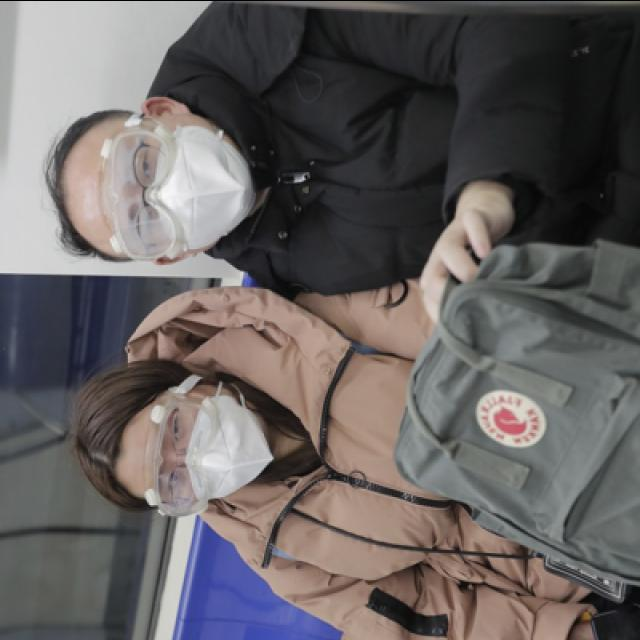mask: (118, 118, 256, 252), (150, 390, 272, 502)
